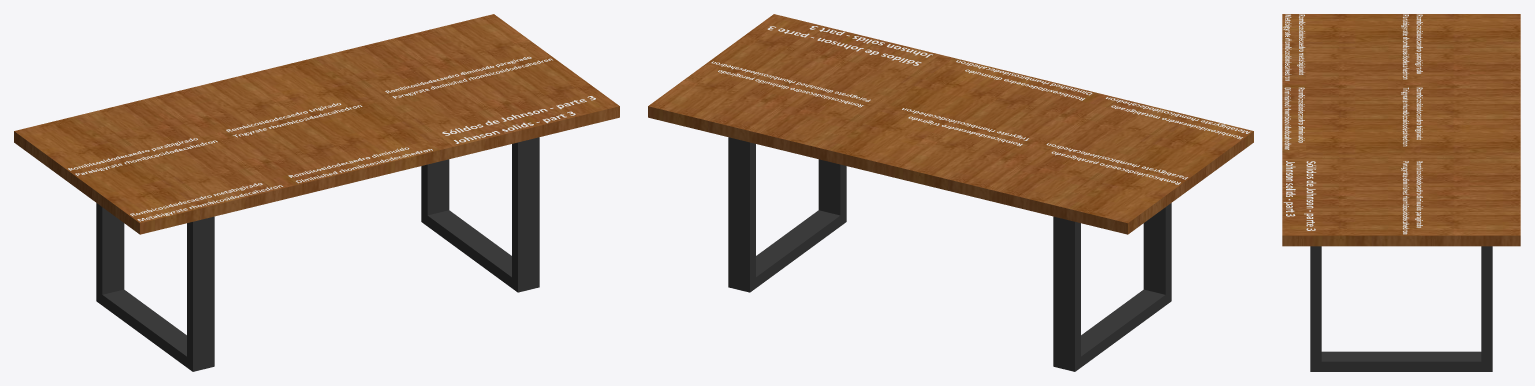
The model's file is johnson3c.glb.
3 views of the same model, side by side, from view 1: azimuth 30°, elevation 25°; view 2: azimuth 150°, elevation 25°; view 3: azimuth 270°, elevation 25° (orthographic). The views are drawn at different scales.
Parts seen in each view (by area): view 1: object 1, Composant#1 (×2), Sólidos de Johns#2, Rombicosidodecae#4, Rombicosidodecae#1, Rombicosidodecae, Rombicosidodecae#3, Rombicosidodecae#2; view 2: object 1, Composant#1 (×2), Sólidos de Johns#2, Rombicosidodecae#4, Rombicosidodecae#1, Rombicosidodecae, Rombicosidodecae#3, Rombicosidodecae#2; view 3: object 1, Composant#1, Sólidos de Johns#2, Rombicosidodecae#4, Rombicosidodecae#1, Rombicosidodecae, Rombicosidodecae#3, Rombicosidodecae#2.
Boxes of the visible parts, box(x1,y1,x2,y2) form: object 1: box(14, 14, 619, 234); Composant#1 (×2): box(96, 137, 539, 371); Sólidos de Johns#2: box(442, 96, 595, 143); Rombicosidodecae#4: box(385, 56, 552, 98); Rombicosidodecae#1: box(130, 183, 282, 221); Rombicosidodecae: box(68, 138, 217, 175); Rombicosidodecae#3: box(288, 147, 432, 183); Rombicosidodecae#2: box(226, 103, 362, 137); object 1: box(648, 14, 1253, 234); Composant#1 (×2): box(728, 137, 1171, 371); Sólidos de Johns#2: box(767, 26, 932, 65); Rombicosidodecae#4: box(711, 61, 870, 107); Rombicosidodecae#1: box(1106, 97, 1250, 139); Rombicosidodecae: box(1046, 143, 1187, 184); Rombicosidodecae#3: box(956, 60, 1092, 100); Rombicosidodecae#2: box(902, 108, 1028, 146); object 1: box(1282, 14, 1520, 246); Composant#1: box(1310, 246, 1492, 371); Sólidos de Johns#2: box(1283, 161, 1316, 230); Rombicosidodecae#4: box(1401, 161, 1422, 234); Rombicosidodecae#1: box(1283, 14, 1305, 80); Rombicosidodecae: box(1401, 14, 1422, 79); Rombicosidodecae#3: box(1284, 87, 1304, 149); Rombicosidodecae#2: box(1401, 87, 1422, 146).
Bounding box in the file's own units: 2.2 × 0.7711 × 1.
Materials: 3 (1 with a texture image).
